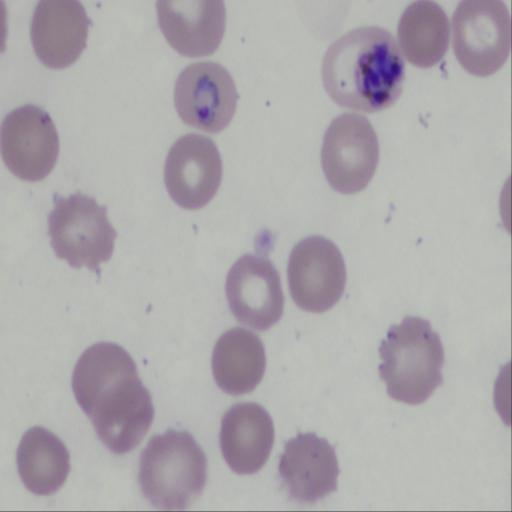Infected: (321, 26, 404, 111), (171, 59, 239, 133)
Uninfected: (378, 317, 447, 406), (139, 427, 210, 511), (70, 343, 140, 419), (49, 190, 114, 271), (0, 106, 62, 184), (321, 115, 377, 195), (93, 380, 154, 453), (288, 237, 346, 313), (228, 253, 286, 329), (31, 0, 92, 71), (162, 135, 221, 208), (281, 433, 341, 503), (457, 0, 512, 76), (153, 0, 224, 57), (220, 401, 273, 477), (211, 327, 265, 396), (17, 426, 69, 496), (400, 1, 450, 66)
